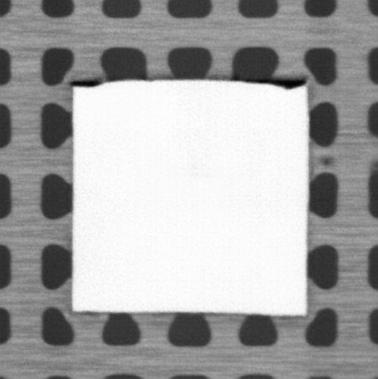DIE_BROKEN: (243, 77, 308, 91), (70, 78, 100, 88)
